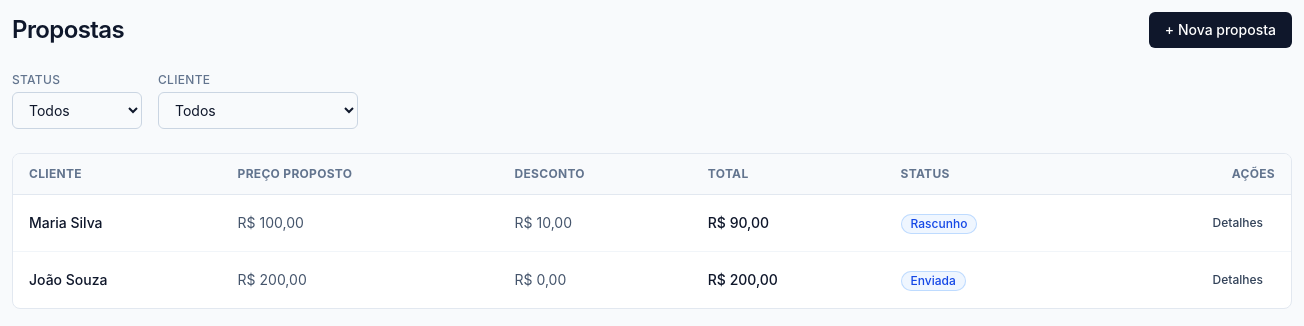
Scenario: ProposalsPage › filters › "Limpar filtros" resets both filters
Select "SENT" in the dropdown labelled "Status" at (77, 110), box [12,92,142,129]
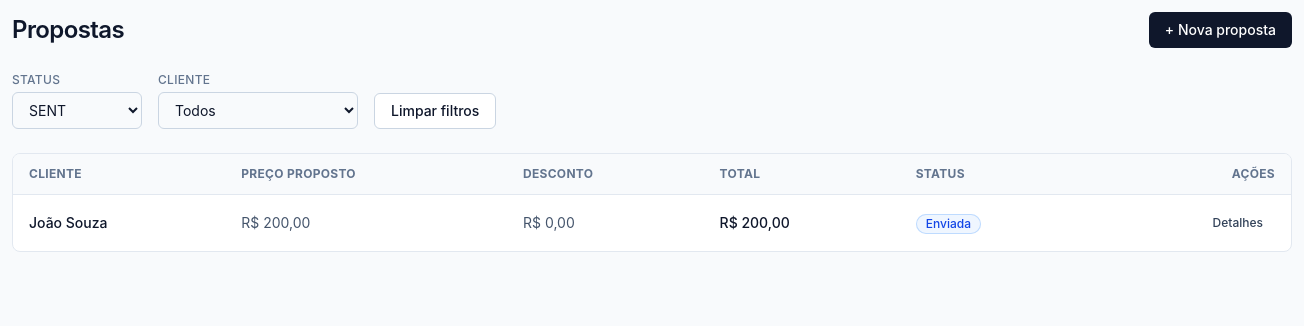
Click the button "Limpar filtros" at (435, 111), box [374,93,496,129]
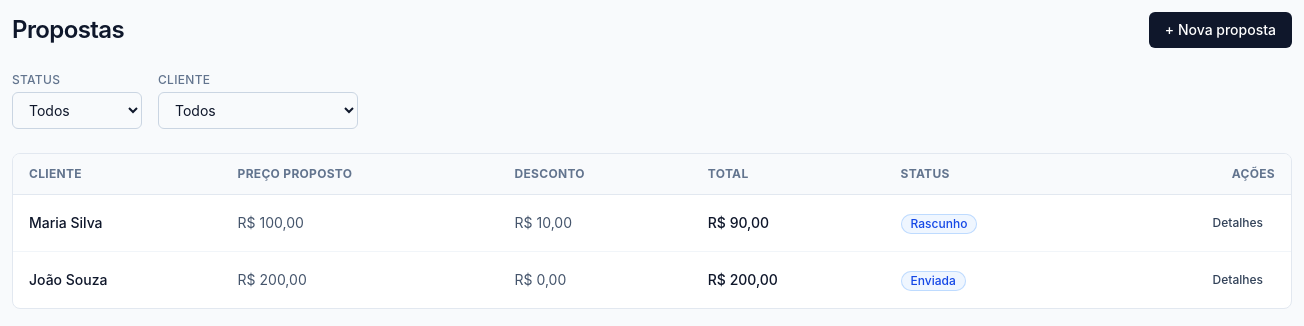
Expected: the text "Enviada" is shown, [901,270,966,290]
Expected: the text "Rascunho" is shown, [901,214,977,234]
